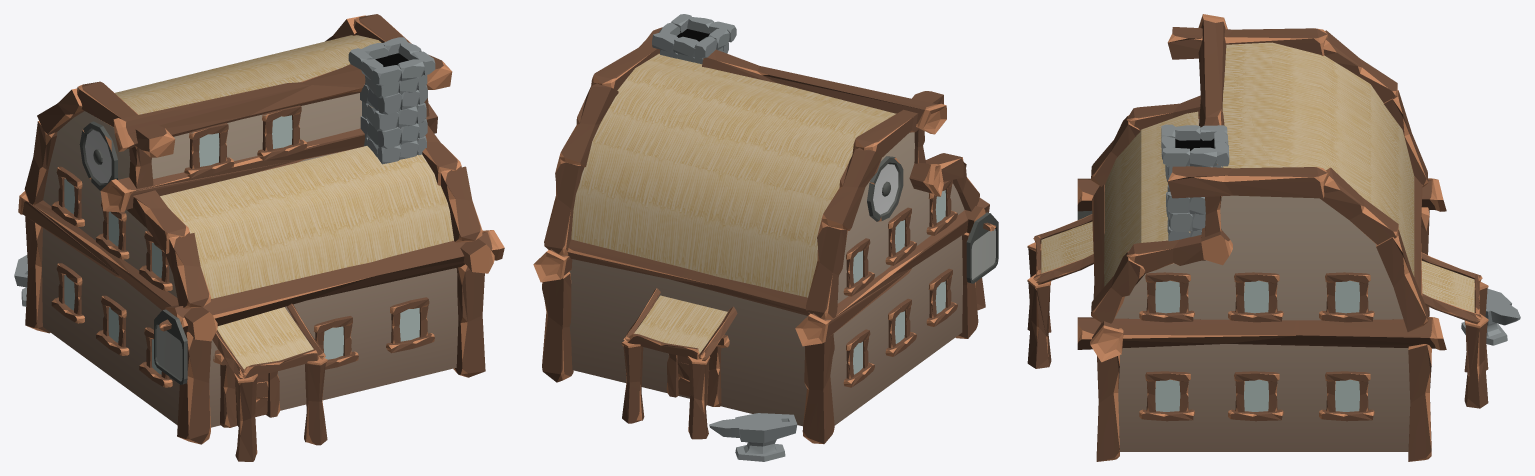
The model's file is Demirci.fbx.
3 views of the same model, side by side, from view 1: azimuth 30°, elevation 25°; view 2: azimuth 150°, elevation 25°; view 3: azimuth 270°, elevation 25° (orthographic). The views are drawn at different scales.
Parts seen in each view (by area): view 1: Demirci; view 2: Demirci; view 3: Demirci.
Boxes of the visible parts, <box> form: Demirci: <box>14,14,504,461</box>; Demirci: <box>533,14,998,461</box>; Demirci: <box>1027,14,1520,461</box>.
Size of the model in its own units: 412 by 344 by 505.
